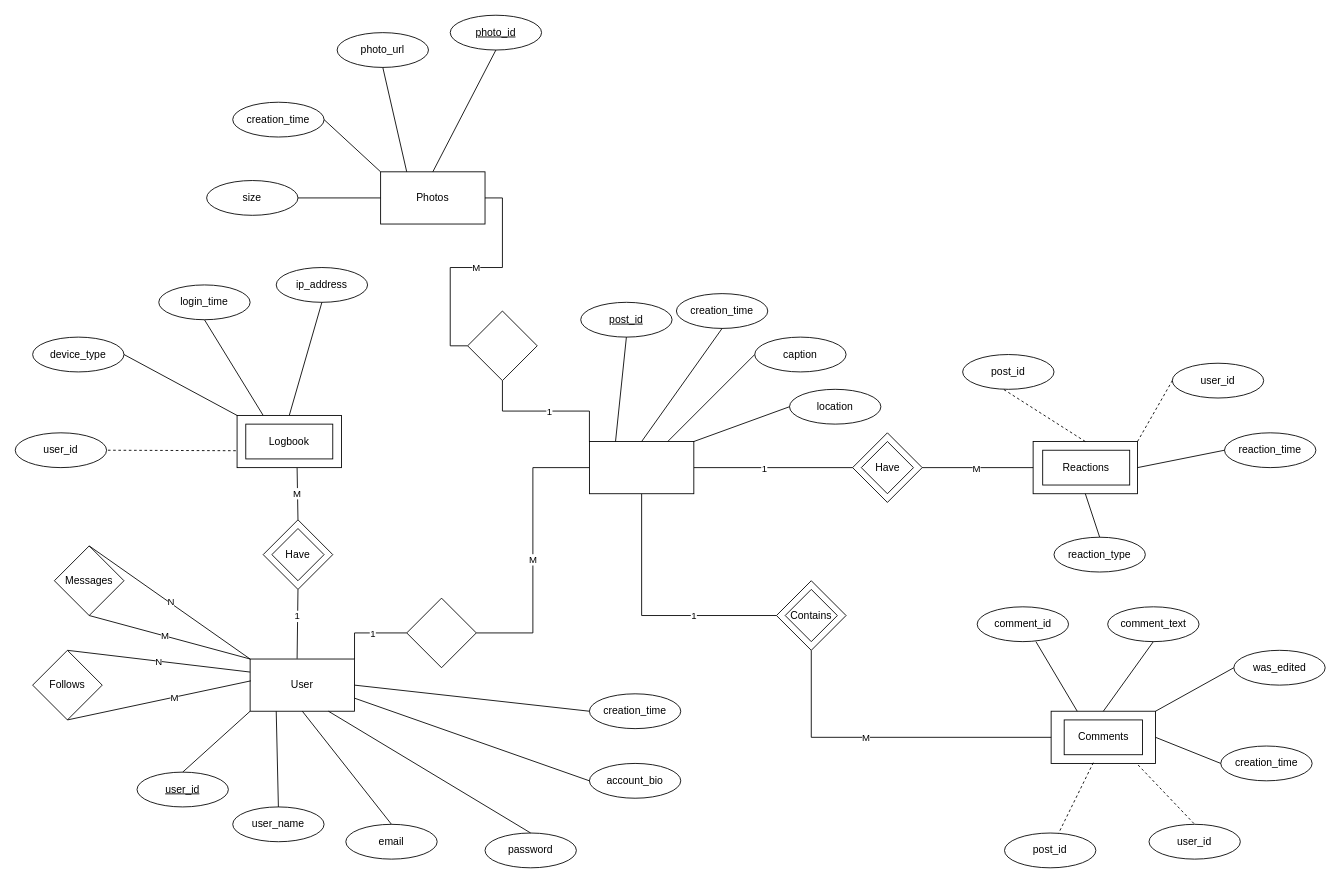
Image size: 1341x883. Some labels were removed from this diagram. Here are the shapes that lost their labels. From the top down, the box of each, then its label:
(467, 310, 537, 381): Consists_of
(589, 441, 694, 494): Posts
(406, 597, 476, 668): Creates
